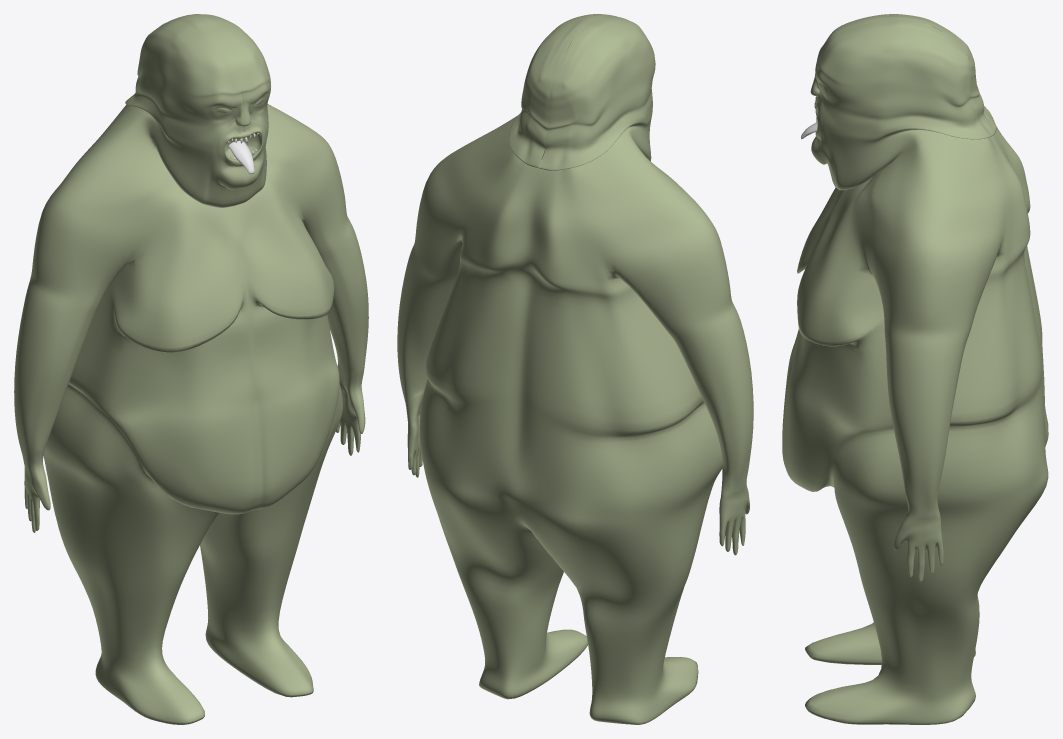
The model's file is FatZombie.fbx.
3 renders of one model, left to right at view 1: azimuth 30°, elevation 25°; view 2: azimuth 150°, elevation 25°; view 3: azimuth 270°, elevation 25°, orthographic.
Visible parts, largest first — view 1: Cube, Cube.003; view 2: Cube; view 3: Cube.
Part boxes in pixels (x1,y1,x2,y2): Cube: [14, 14, 368, 724]; Cube.003: [228, 133, 258, 174]; Cube: [397, 14, 753, 724]; Cube: [782, 14, 1048, 724].
Size of the model in its own units: 0.9651 by 1.76 by 0.638.
